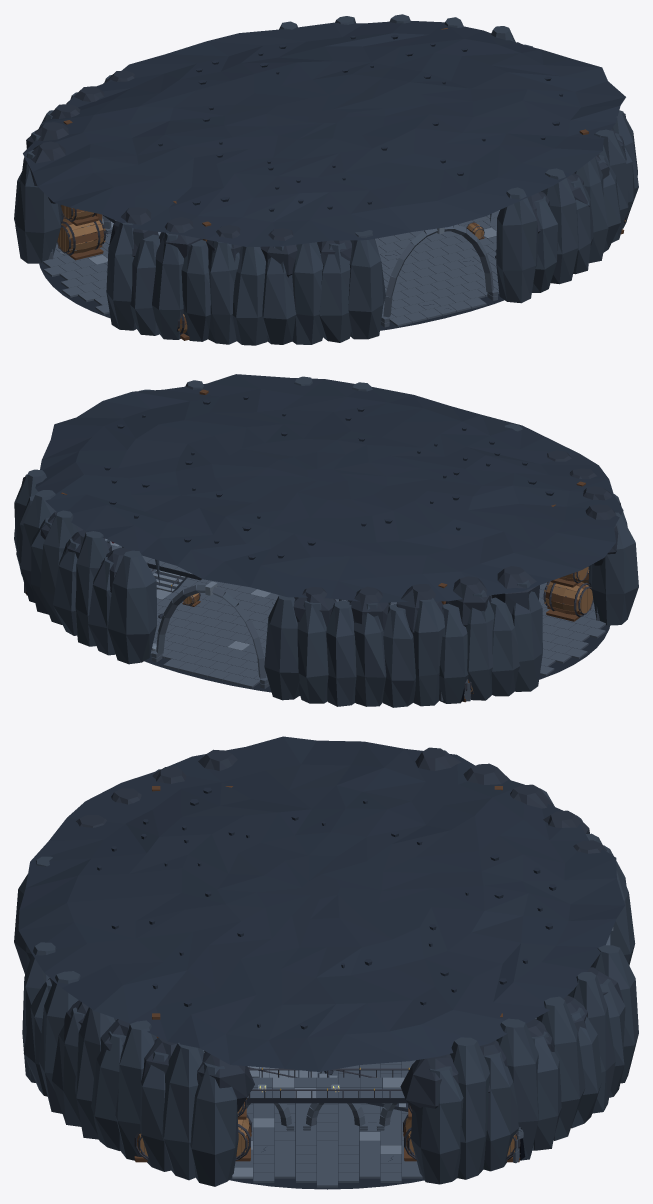
Rendered from cellar-room-01.glb.
3 renders of one model, top to bottom at view 1: azimuth 30°, elevation 25°; view 2: azimuth 150°, elevation 25°; view 3: azimuth 270°, elevation 25°, orthographic. The views are drawn at different scales.
Parts seen in each view (by area): view 1: Cellar 1 ceiling, Cellar 1 rock, Cellar 1 stone_floor, Cellar 1 stone_dark, Cellar 1 stone, Cellar 1 wood_light, Cellar 1 mortar, Cellar 1 wood, Cellar 1 iron; view 2: Cellar 1 ceiling, Cellar 1 rock, Cellar 1 stone_floor, Cellar 1 stone_dark, Cellar 1 stone, Cellar 1 wood_light, Cellar 1 mortar, Cellar 1 wood, Cellar 1 stone_light, Cellar 1 iron; view 3: Cellar 1 ceiling, Cellar 1 rock, Cellar 1 stone_dark, Cellar 1 stone_floor, Cellar 1 stone, Cellar 1 iron, Cellar 1 mortar, Cellar 1 stone_light, Cellar 1 stone_floor_light, Cellar 1 wood, Cellar 1 wood_light.
Boxes of the visible parts, left/top/right/bottom form: Cellar 1 ceiling: left=23, top=21, right=625, bottom=246; Cellar 1 rock: left=14, top=14, right=638, bottom=345; Cellar 1 stone_floor: left=43, top=210, right=499, bottom=326; Cellar 1 stone_dark: left=22, top=42, right=626, bottom=277; Cellar 1 stone: left=48, top=215, right=498, bottom=327; Cellar 1 wood_light: left=57, top=205, right=625, bottom=333; Cellar 1 mortar: left=39, top=254, right=504, bottom=330; Cellar 1 wood: left=58, top=28, right=624, bottom=340; Cellar 1 iron: left=57, top=205, right=626, bottom=334; Cellar 1 ceiling: left=35, top=374, right=623, bottom=602; Cellar 1 rock: left=14, top=376, right=638, bottom=707; Cellar 1 stone_floor: left=105, top=538, right=605, bottom=687; Cellar 1 stone_dark: left=21, top=450, right=620, bottom=634; Cellar 1 stone: left=24, top=545, right=599, bottom=701; Cellar 1 wood_light: left=183, top=567, right=592, bottom=693; Cellar 1 mortar: left=144, top=601, right=610, bottom=695; Cellar 1 wood: left=25, top=389, right=591, bottom=702; Cellar 1 stone_light: left=105, top=539, right=464, bottom=695; Cellar 1 iron: left=151, top=566, right=593, bottom=696; Cellar 1 ceiling: left=18, top=736, right=624, bottom=1071; Cellar 1 rock: left=14, top=750, right=638, bottom=1186; Cellar 1 stone_dark: left=30, top=747, right=623, bottom=1112; Cellar 1 stone_floor: left=203, top=1018, right=536, bottom=1187; Cellar 1 stone: left=246, top=934, right=610, bottom=1163; Cellar 1 iron: left=134, top=1067, right=520, bottom=1160; Cellar 1 mortar: left=229, top=1062, right=423, bottom=1189; Cellar 1 stone_light: left=247, top=927, right=613, bottom=1154; Cellar 1 stone_floor_light: left=232, top=1118, right=401, bottom=1178; Cellar 1 wood: left=134, top=786, right=520, bottom=1162; Cellar 1 wood_light: left=137, top=1099, right=515, bottom=1156.
Size of the model in its own units: 96.13 by 19.88 by 76.61.
